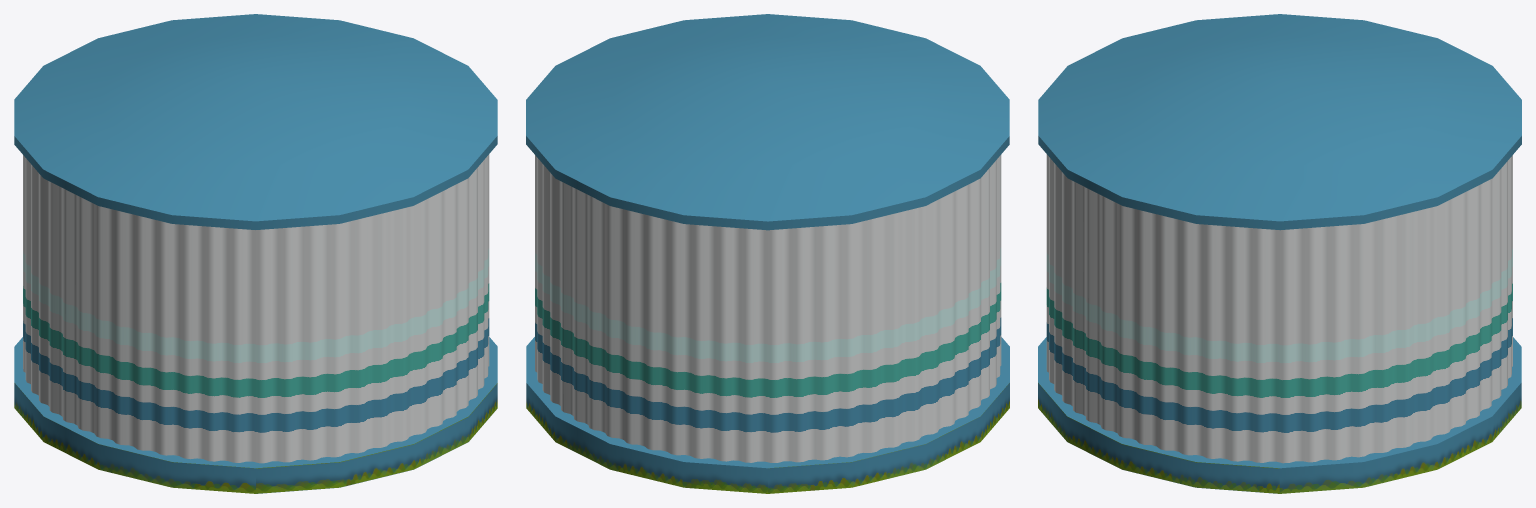
Rendered from tank01.FBX.
3 renders of one model, left to right at view 1: azimuth 30°, elevation 25°; view 2: azimuth 150°, elevation 25°; view 3: azimuth 270°, elevation 25°, orthographic.
Visible parts, largest first — view 1: Object007, Cylinder007, Cylinder008; view 2: Object007, Cylinder007, Cylinder008; view 3: Object007, Cylinder007, Cylinder008.
Part boxes in pixels (x1=…): Object007: x1=23, y1=154, x2=489, y2=463; Cylinder007: x1=14, y1=14, x2=497, y2=229; Cylinder008: x1=14, y1=337, x2=497, y2=493; Object007: x1=535, y1=155, x2=1001, y2=462; Cylinder007: x1=526, y1=14, x2=1009, y2=230; Cylinder008: x1=526, y1=337, x2=1009, y2=493; Object007: x1=1046, y1=154, x2=1512, y2=463; Cylinder007: x1=1038, y1=14, x2=1521, y2=230; Cylinder008: x1=1038, y1=337, x2=1521, y2=493.
Size of the model in its own units: 2901 by 2020 by 2858.
